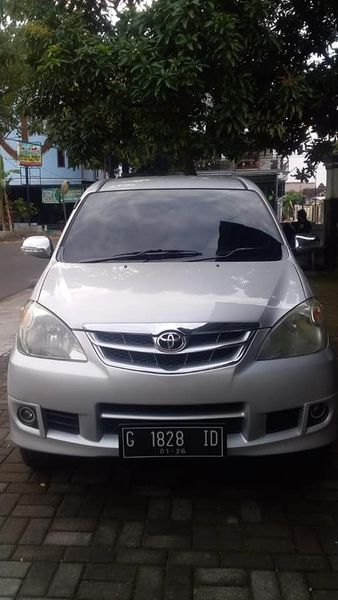plate: (121, 426, 226, 454)
